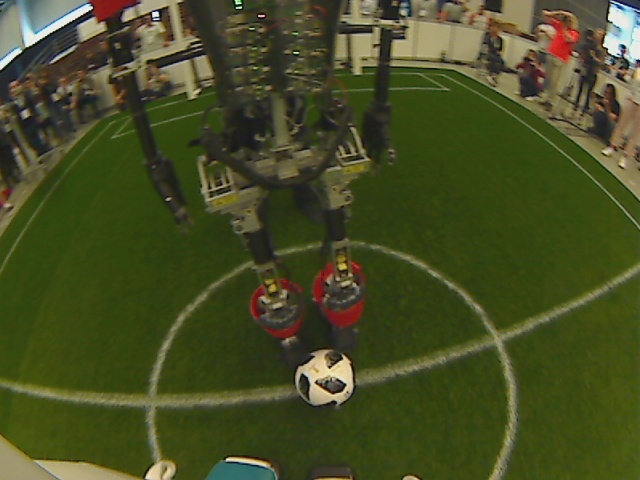ball: (291, 346, 360, 410)
